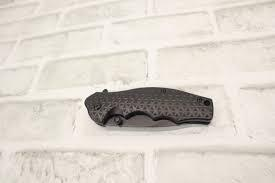Knife: (84, 86, 213, 129)
